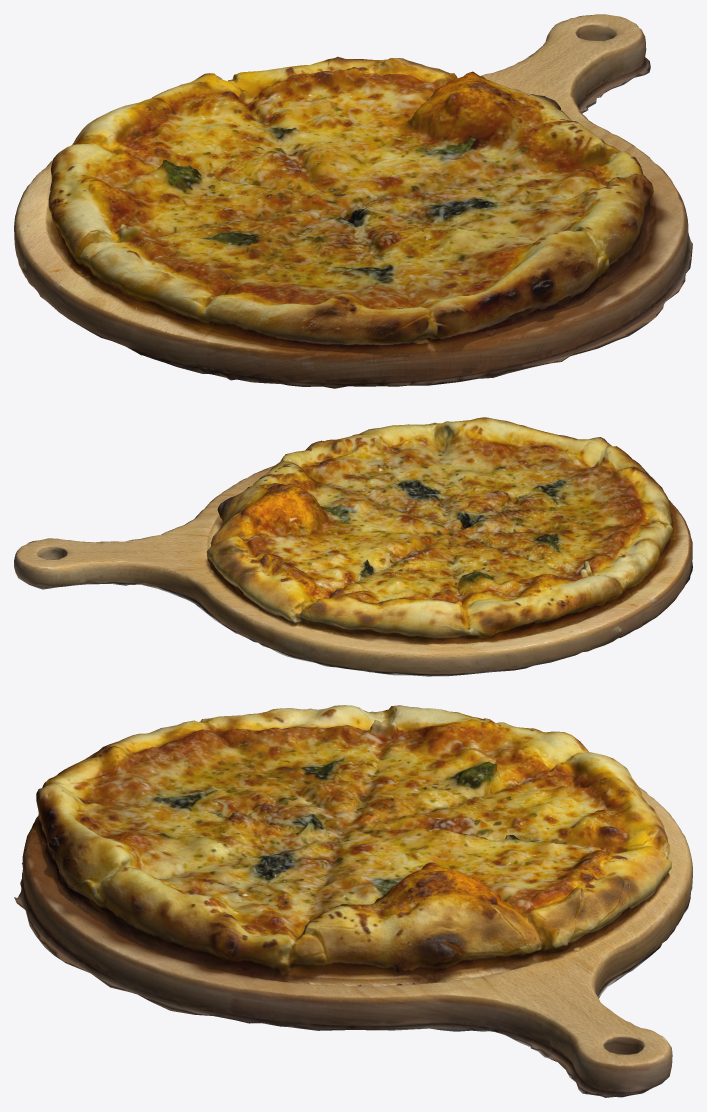
The model's file is Margherita Pizza.glb.
3 renders of one model, top to bottom at view 1: azimuth 30°, elevation 25°; view 2: azimuth 150°, elevation 25°; view 3: azimuth 270°, elevation 25°, orthographic. The views are drawn at different scales.
Parts seen in each view (by area): view 1: ObjectCapture; view 2: ObjectCapture; view 3: ObjectCapture.
Part boxes in pixels (x1,y1,x2,y2): ObjectCapture: [14, 14, 692, 388]; ObjectCapture: [14, 417, 692, 676]; ObjectCapture: [14, 705, 692, 1097].
Bounding box in the file's own units: 0.3727 × 0.0509 × 0.3078.
1 material, 1 textured.
